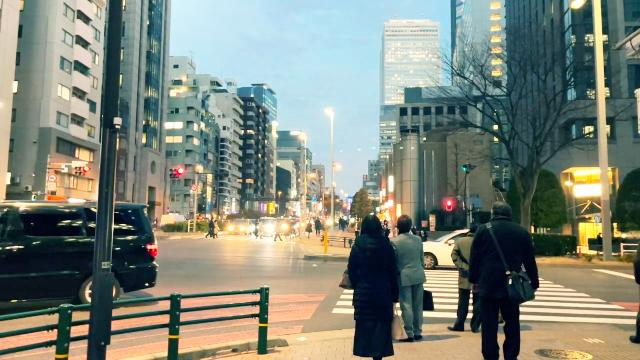berdiri: (465, 198, 543, 360), (342, 207, 402, 358), (381, 212, 431, 344), (452, 219, 490, 335)
